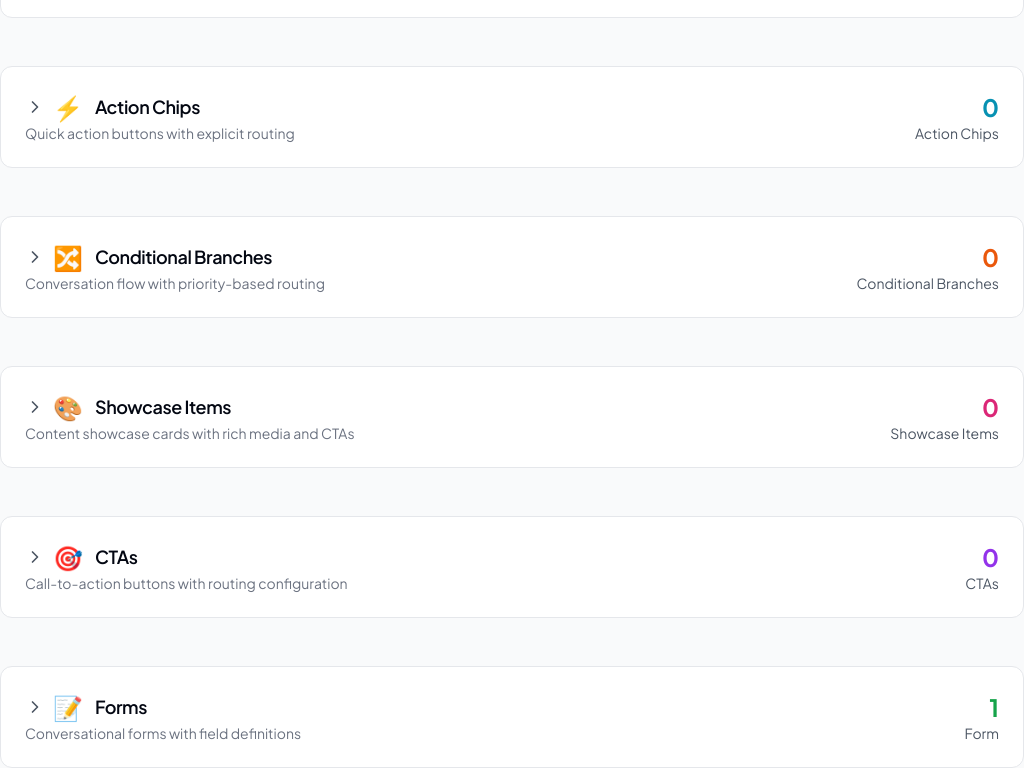
ConversationFlowDiagram › Status Icons › should show broken refs icon on nodes with broken references
The width and height of the screenshot is (1024, 768).
Expand Forms section
Click the button named "Expand section" at (54, 707), box [25,691,83,723]
(page scrolled)
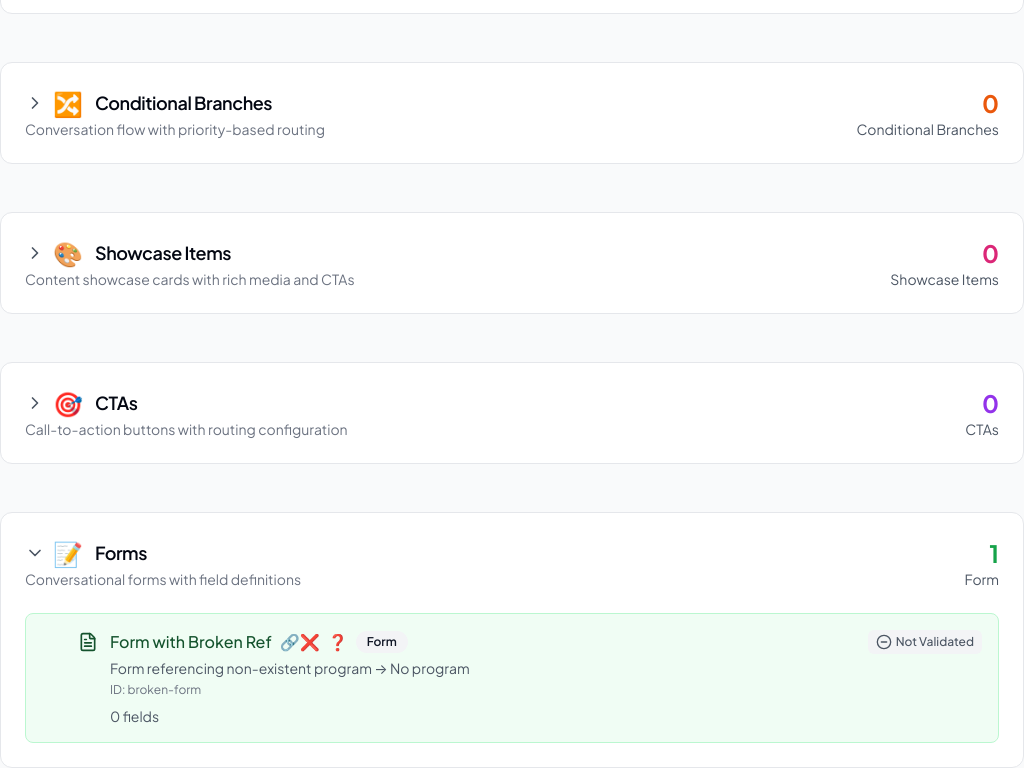
Check: the text "🔗❌" is shown, box [280,630,320,654]
